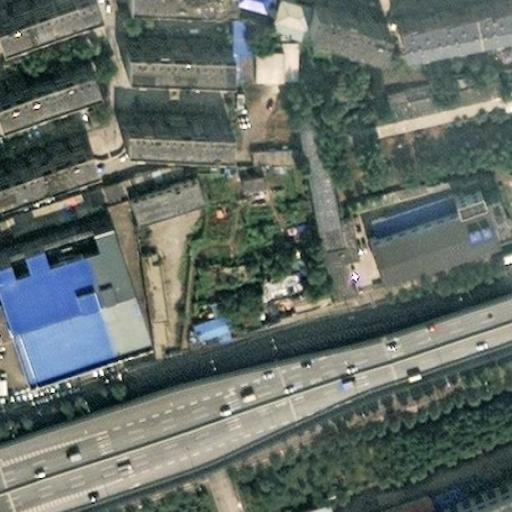building: (357, 180, 498, 266), (287, 93, 348, 283), (361, 59, 512, 119), (388, 0, 512, 32), (122, 159, 195, 202), (112, 110, 217, 136), (113, 37, 221, 61), (87, 157, 150, 193), (257, 265, 305, 300), (182, 301, 222, 337), (221, 7, 247, 61), (285, 484, 332, 512), (247, 33, 289, 61), (262, 0, 300, 24), (444, 168, 477, 193), (285, 217, 314, 242), (235, 154, 260, 175)
